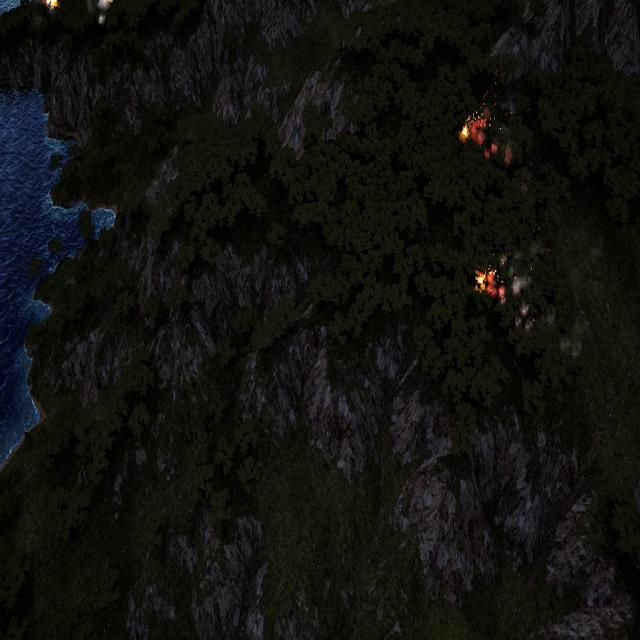fire: (460, 111, 512, 165), (476, 264, 505, 304), (42, 0, 59, 13)
smoke: (504, 241, 542, 334), (95, 0, 113, 28)
